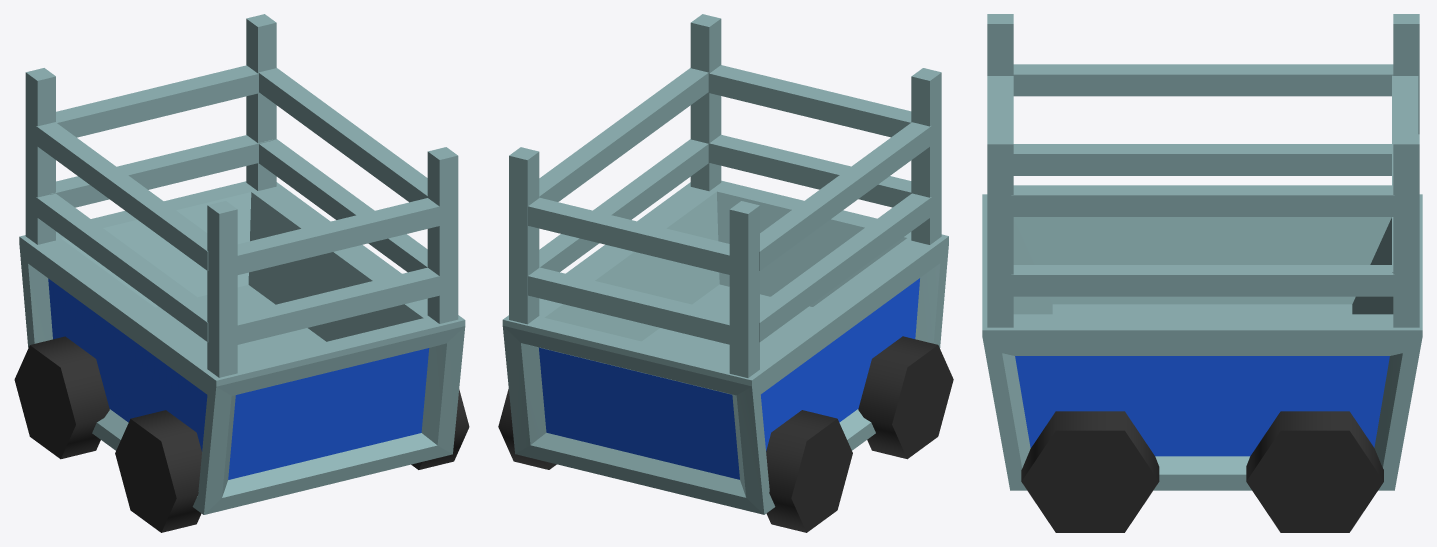
Rendered from Trolly_5.FBX.
3 views of the same model, side by side, from view 1: azimuth 30°, elevation 25°; view 2: azimuth 150°, elevation 25°; view 3: azimuth 270°, elevation 25° (orthographic). The views are drawn at different scales.
Parts seen in each view (by area): view 1: Trolly_5; view 2: Trolly_5; view 3: Trolly_5.
Boxes of the visible parts, x1,y1,x2,y2 form: Trolly_5: (14, 14, 469, 532); Trolly_5: (498, 14, 953, 532); Trolly_5: (982, 14, 1422, 532).
Bounding box in the file's own units: 1.23 × 1.34 × 1.43.
1 material, 1 textured.
